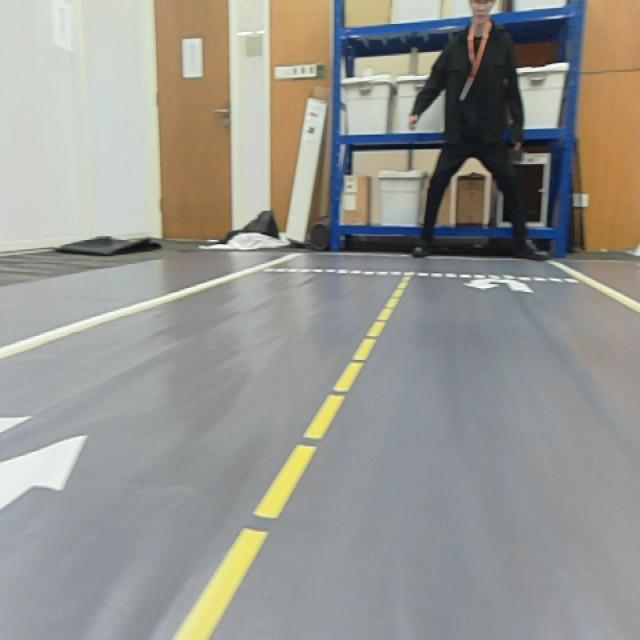left_lane: (171, 273, 411, 640)
right_lane: (0, 250, 296, 361), (556, 258, 640, 316)
